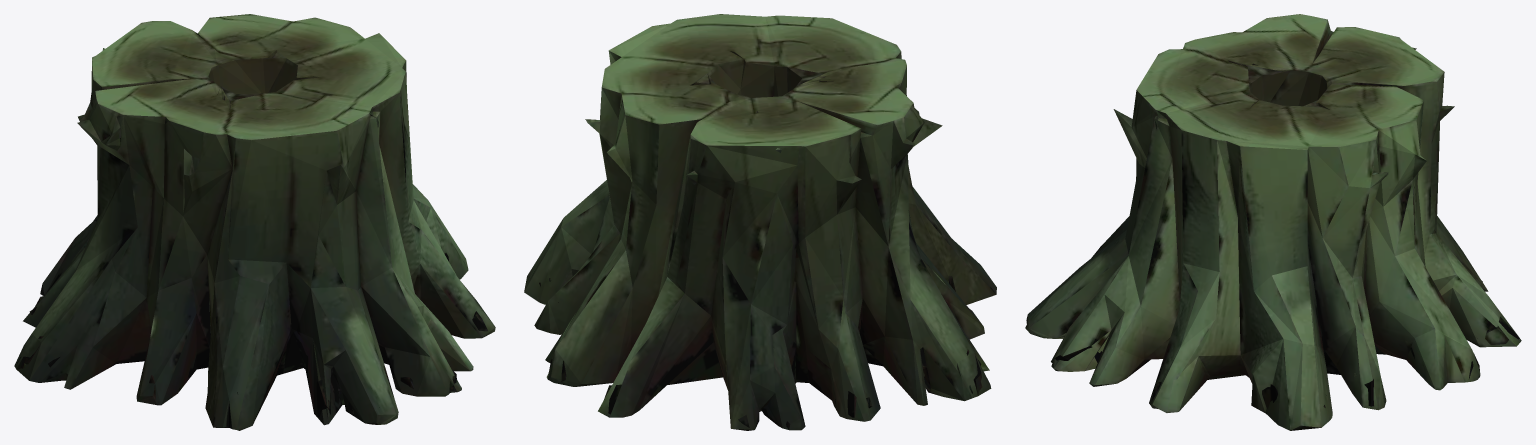
The model's file is bog_stump_01.glb.
The picture shows the model from 3 angles, left to right: view 1: azimuth 30°, elevation 25°; view 2: azimuth 150°, elevation 25°; view 3: azimuth 270°, elevation 25°; orthographic projection. The views are drawn at different scales.
Parts seen in each view (by area): view 1: geometry_0; view 2: geometry_0; view 3: geometry_0.
Boxes of the visible parts, left/top/right/bottom form: geometry_0: left=14, top=14, right=495, bottom=430; geometry_0: left=524, top=14, right=996, bottom=430; geometry_0: left=1025, top=14, right=1521, bottom=430.
Bounding box in the file's own units: 0.9964 × 0.5425 × 0.9927.
1 material, 1 textured.
